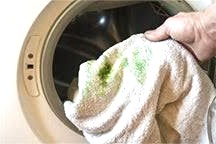earth: (97, 62, 114, 89), (133, 57, 147, 82), (120, 58, 129, 69)
